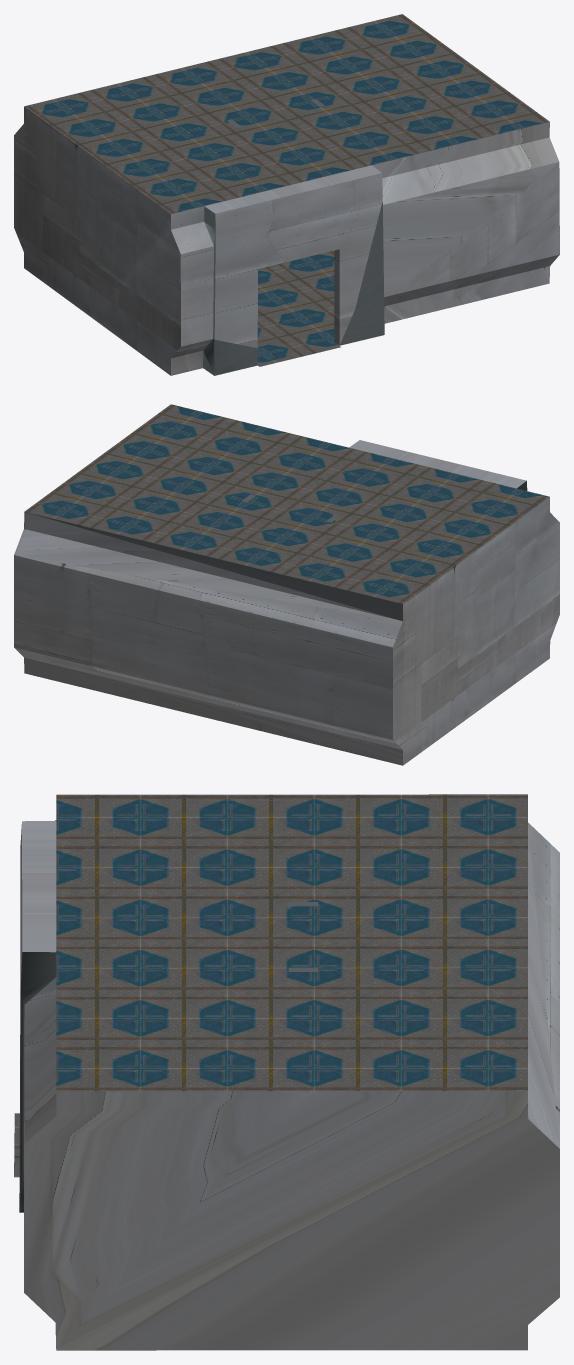
The model's file is almacen_4.obj.
3 views of the same model, one above another, from view 1: azimuth 30°, elevation 25°; view 2: azimuth 150°, elevation 25°; view 3: azimuth 270°, elevation 25° (orthographic). The views are drawn at different scales.
Parts seen in each view (by area): view 1: almacen_4:polySurface2138; view 2: almacen_4:polySurface2138; view 3: almacen_4:polySurface2138.
Boxes of the visible parts, bbox=[...] form: almacen_4:polySurface2138: bbox=[14, 14, 559, 375]; almacen_4:polySurface2138: bbox=[14, 404, 559, 765]; almacen_4:polySurface2138: bbox=[14, 794, 559, 1350].
Size of the model in its own units: 49.6 by 20.27 by 38.57.
